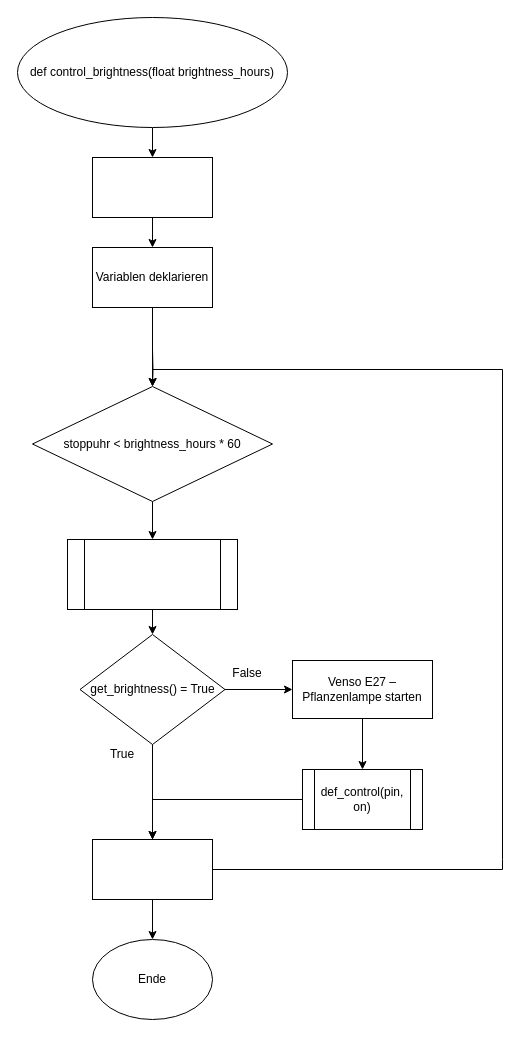
This 521x1037 diagram has some shape labels left out. The shapes that lost their labels are listed below. From the top down, each one's centre as x and y in pixels, then its label:
At [152,187]: "Klassen importieren".
At [152,574]: "def get_brightness()".
At [152,869]: "Sleep 60".
